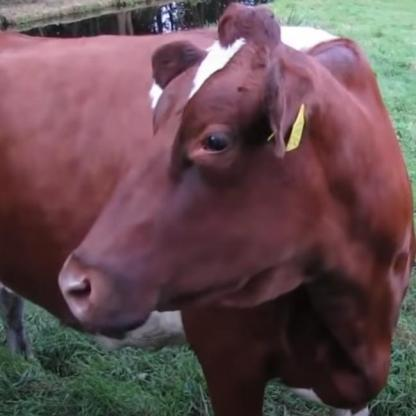cow: (0, 26, 416, 416)
